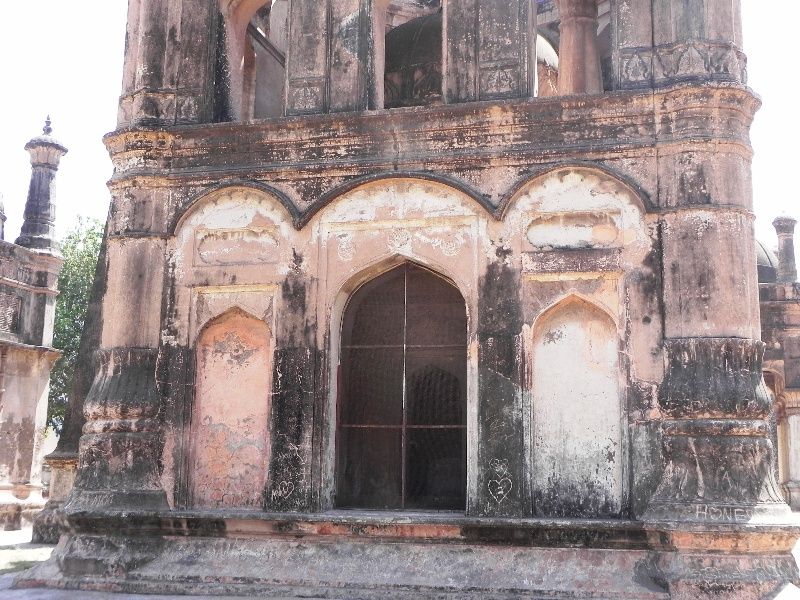Spalling: (524, 277, 564, 317)
